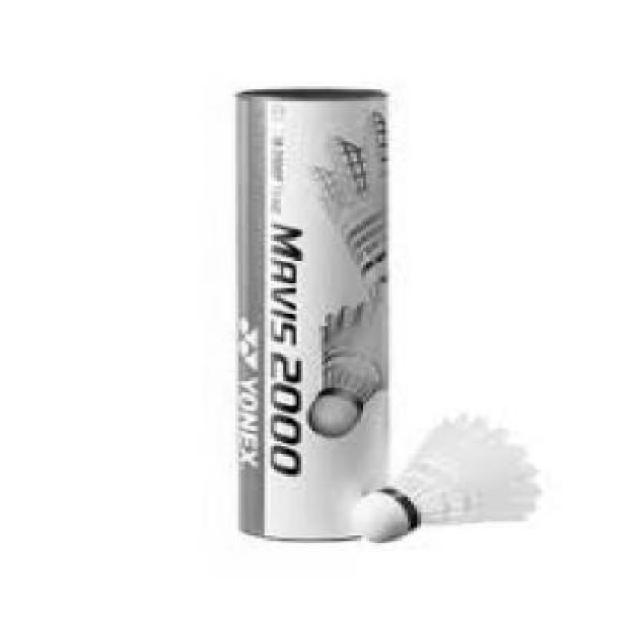Shuttlecock: (352, 416, 543, 544)
